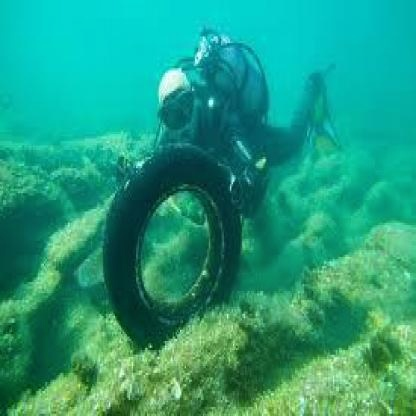tire: (91, 150, 251, 341)
